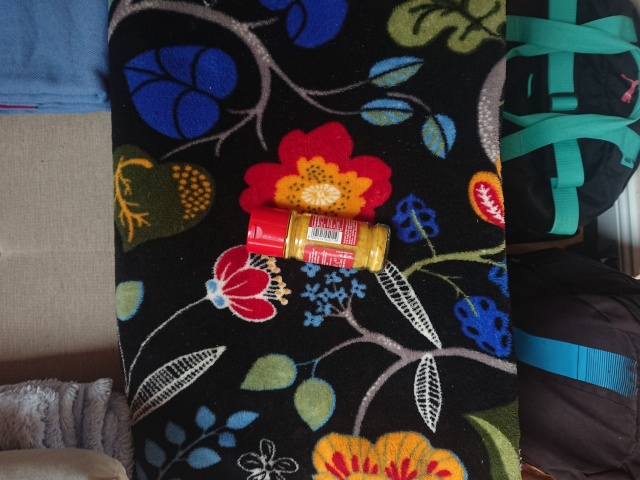Kotanyi Curry Spices Mix 70g: (244, 203, 392, 275)
